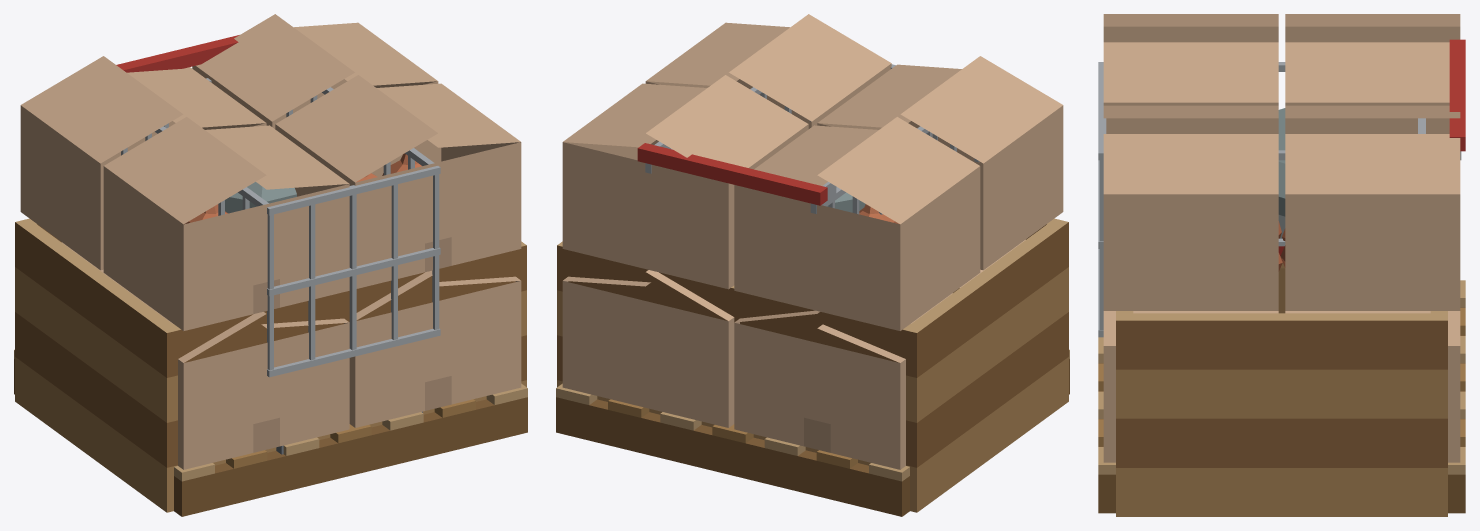
The model's file is market-kit.glb.
The picture shows the model from 3 angles, left to right: view 1: azimuth 30°, elevation 25°; view 2: azimuth 150°, elevation 25°; view 3: azimuth 270°, elevation 25°; orthographic projection. The views are drawn at different scales.
Visible parts, largest first — view 1: PalletBoxes, ProduceBin, Cart, TrashBin; view 2: PalletBoxes, ProduceBin, Cart; view 3: PalletBoxes, ProduceBin, Cart, TrashBin.
Part boxes in pixels (x1,y1,x2,y2): PalletBoxes: (14, 14, 527, 516); ProduceBin: (15, 153, 526, 512); Cart: (116, 35, 440, 454); TrashBin: (225, 182, 296, 213); PalletBoxes: (556, 14, 1069, 516); ProduceBin: (557, 204, 1068, 512); Cart: (637, 64, 979, 214); PalletBoxes: (1098, 14, 1465, 513); ProduceBin: (1116, 221, 1447, 516); Cart: (1098, 39, 1465, 337); TrashBin: (1278, 108, 1285, 238).
Size of the model in its own units: 1.3 by 1.1 by 1.05.
